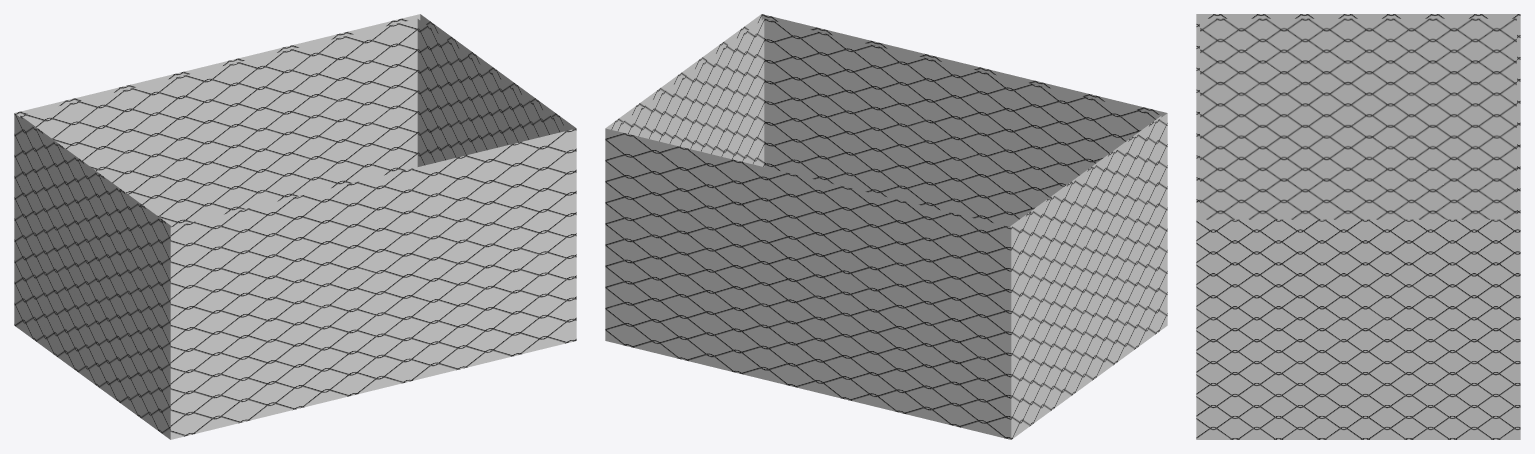
Rendered from trolley.dae.
3 views of the same model, side by side, from view 1: azimuth 30°, elevation 25°; view 2: azimuth 150°, elevation 25°; view 3: azimuth 270°, elevation 25° (orthographic). The views are drawn at different scales.
Parts seen in each view (by area): view 1: Cube, Cube.001; view 2: Cube, Cube.001; view 3: Cube, Cube.001.
Boxes of the visible parts, x1,y1,x2,y2 form: Cube: [14, 14, 576, 439]; Cube.001: [20, 18, 569, 227]; Cube: [605, 14, 1167, 439]; Cube.001: [612, 18, 1161, 227]; Cube: [1196, 14, 1520, 439]; Cube.001: [1200, 18, 1516, 219].
Size of the model in its own units: 0.6 by 0.4 by 0.3.
